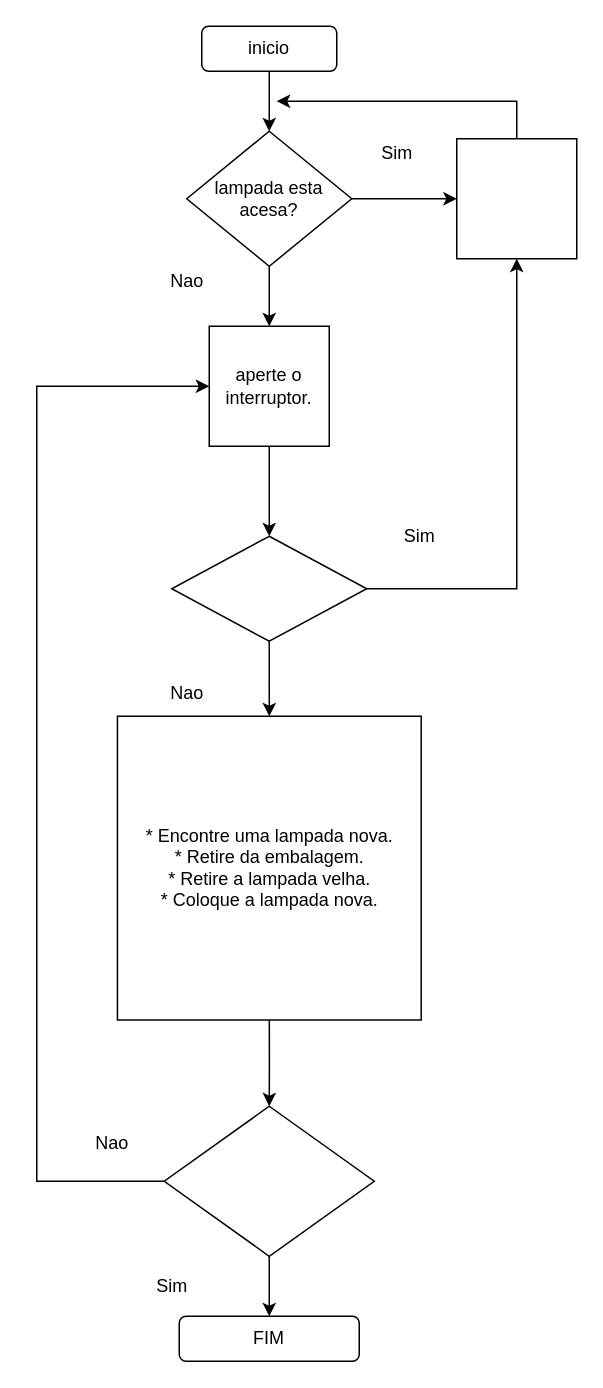
Image size: 603x1388. Some labels were removed from this diagram. The shapes that lost their labels are listed below. From the top down, each one's centre as x and y in pixels, then its label:
point (516, 198): va para outro comodo.
point (268, 588): A lampad acendeu?
point (268, 1180): A lampada acendeu?
